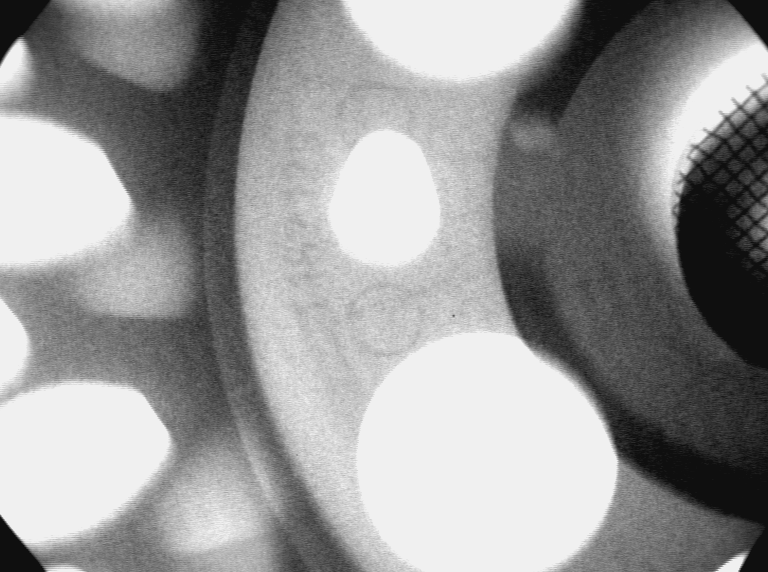defect: (511, 113, 568, 161)
